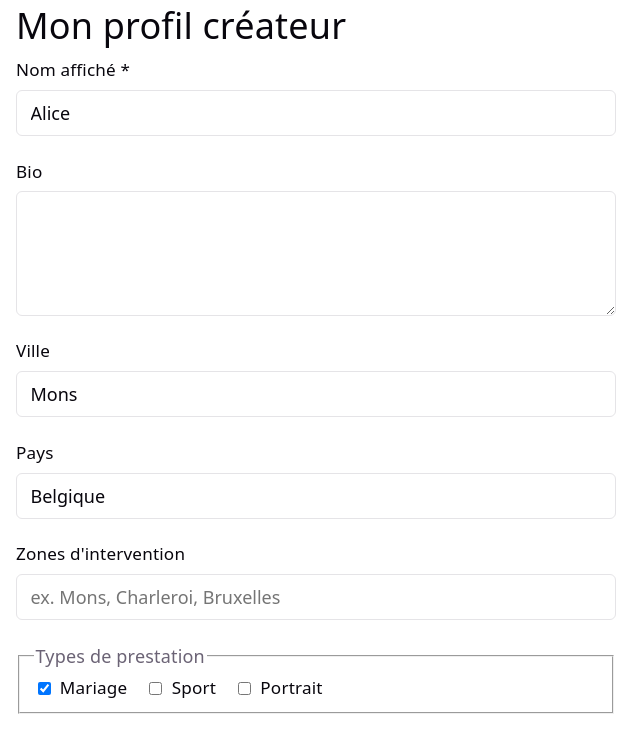
Scenario: MonProfilCreateur : types de prestation (#87) › signale que le profil est enregistré quand seuls les types échouent (revue de #122)
The width and height of the screenshot is (633, 737).
Click the checkbox labelled "Sport": (156, 688) [149,682,162,694]
(page scrolled)
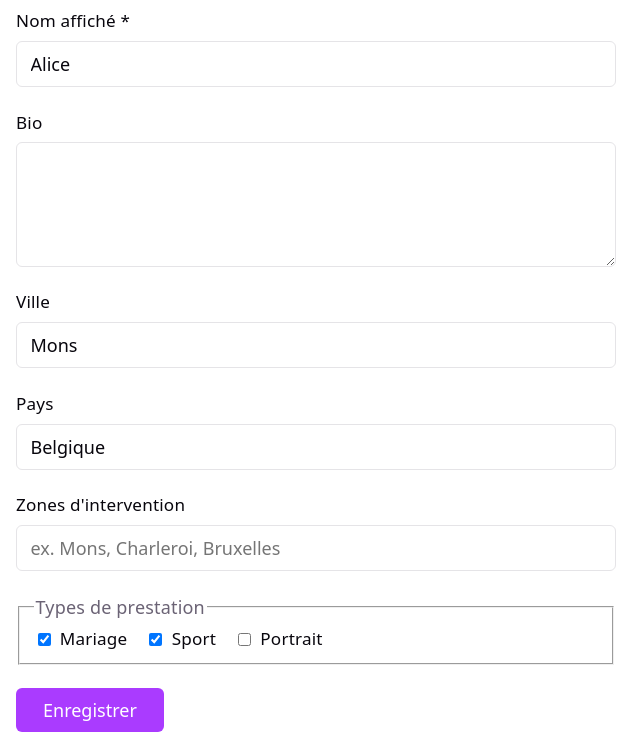
Click the button "Enregistrer": (90, 710) [16,688,164,732]
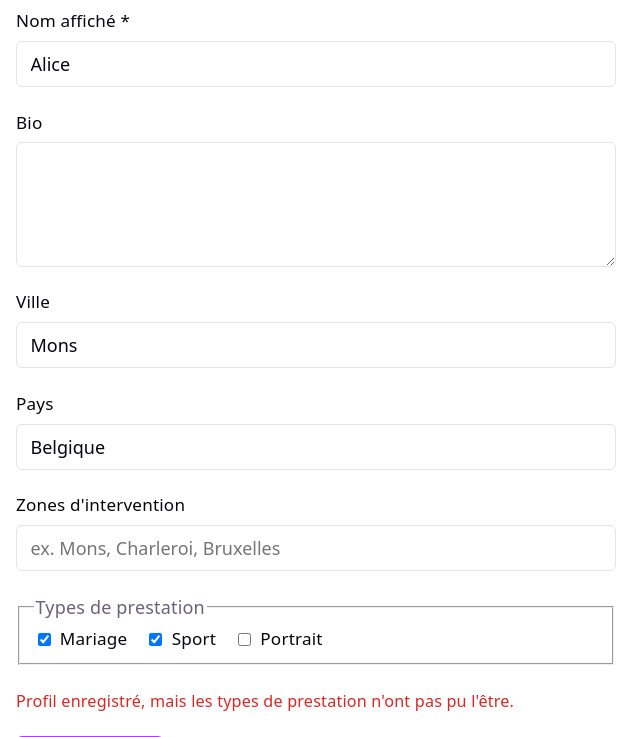
expect the message reads "Profil enregistré, mais les types de prestation n'ont pas pu l'être.": met, box [16,690,514,712]
